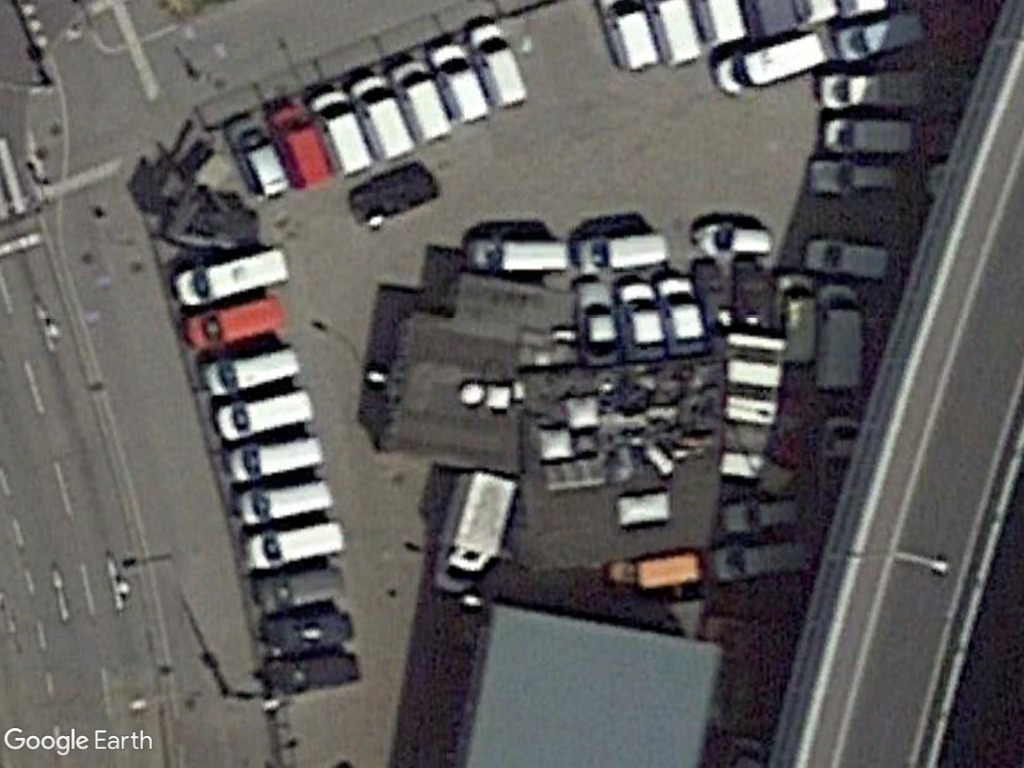car: (803, 146, 909, 202), (803, 228, 894, 286), (687, 213, 778, 265), (716, 491, 813, 539)
truck: (427, 472, 525, 598)
van: (712, 26, 831, 104), (167, 243, 293, 307), (343, 65, 420, 165), (234, 512, 346, 578), (174, 289, 294, 350), (306, 79, 375, 182), (268, 98, 342, 194), (806, 279, 867, 395), (221, 111, 294, 204), (221, 421, 330, 483), (424, 33, 493, 130), (385, 53, 455, 147), (201, 386, 316, 443), (810, 62, 927, 117), (467, 13, 530, 115), (192, 341, 304, 398), (464, 231, 575, 285), (227, 473, 336, 527), (704, 536, 812, 588), (832, 8, 928, 66), (570, 226, 672, 279), (816, 108, 915, 160)
